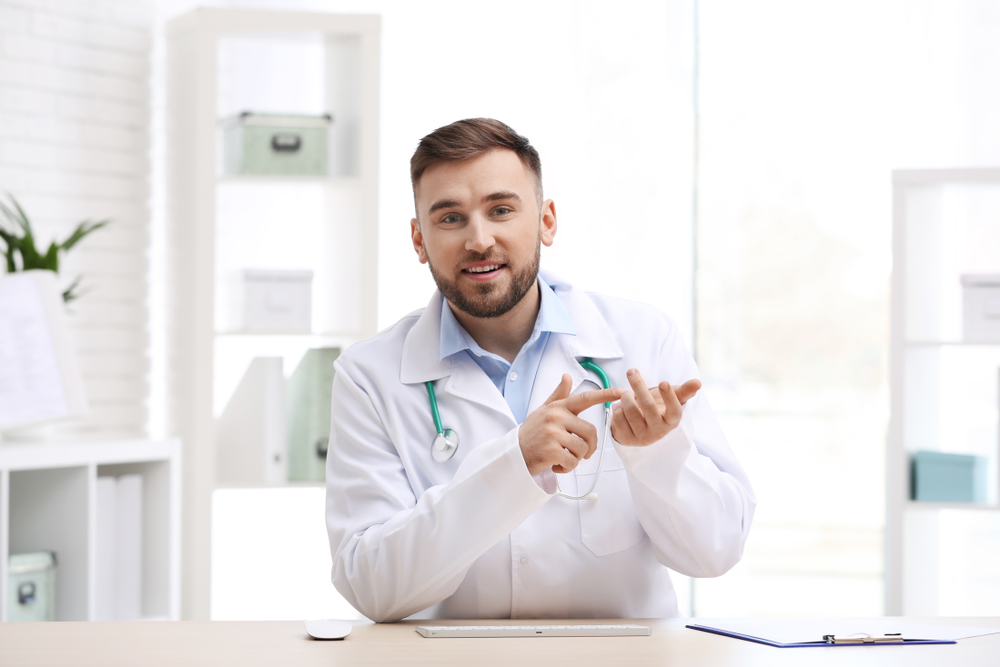person: (322, 115, 757, 622)
